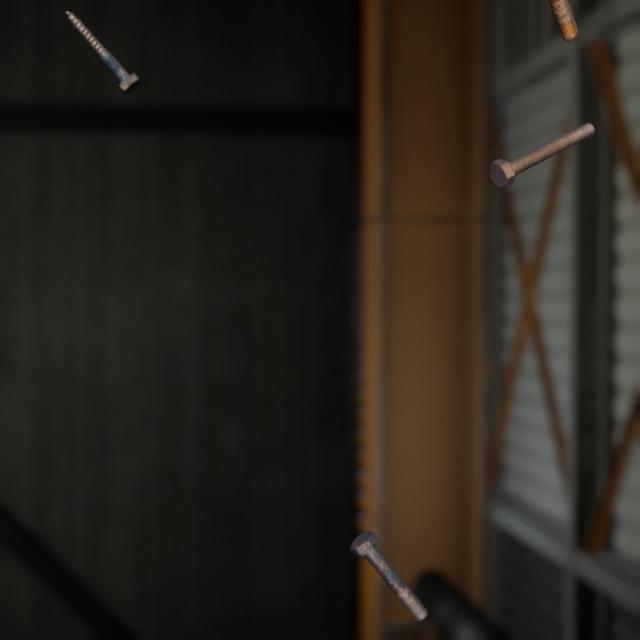bolt: (345, 504, 432, 604), (484, 105, 599, 179), (61, 0, 144, 89), (545, 0, 582, 40)
